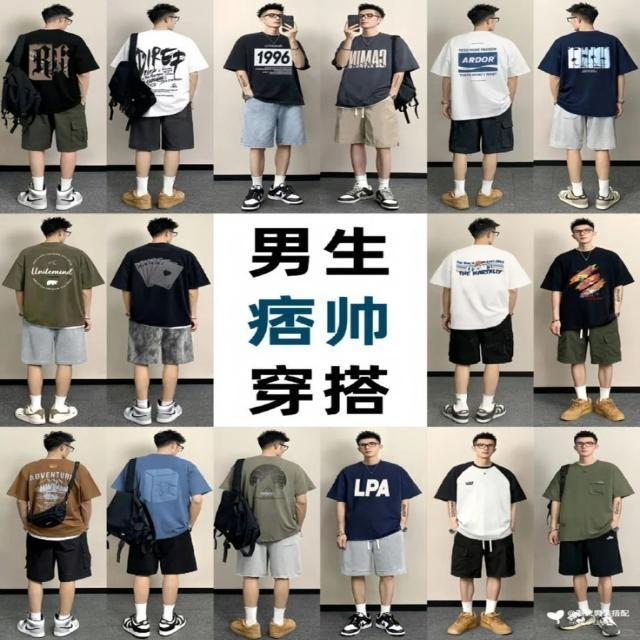person: (107, 429, 212, 638), (0, 215, 104, 426), (428, 217, 532, 424), (108, 217, 210, 426), (536, 2, 638, 210), (428, 3, 530, 210), (108, 2, 209, 210), (217, 430, 316, 640), (1, 4, 100, 211), (325, 430, 422, 636), (539, 217, 635, 422), (6, 431, 101, 638), (433, 432, 527, 636), (542, 430, 635, 636), (222, 2, 310, 212), (331, 2, 419, 210)
